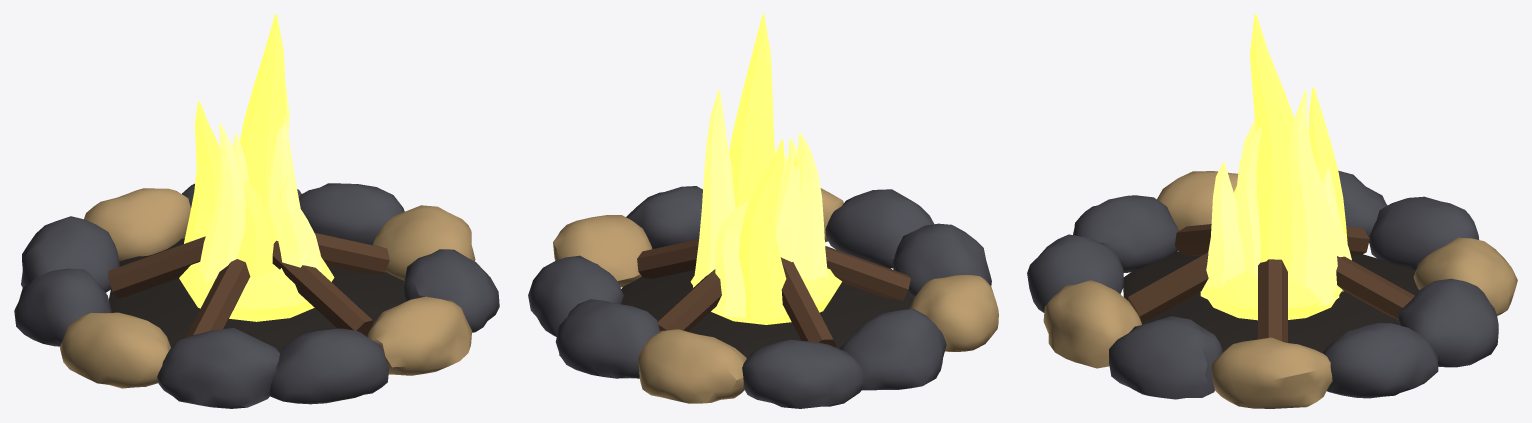
File: deco_fire_pit.fbx
3 views of the same model, side by side, from view 1: azimuth 30°, elevation 25°; view 2: azimuth 150°, elevation 25°; view 3: azimuth 270°, elevation 25° (orthographic). The views are drawn at different scales.
Parts seen in each view (by area): view 1: FirePit_Stones, FirePit_Flames, FirePit_Logs; view 2: FirePit_Stones, FirePit_Flames, FirePit_Logs; view 3: FirePit_Stones, FirePit_Flames, FirePit_Logs.
Part boxes in pixels (box(x1,y1,x2,y2)): FirePit_Stones: box(14, 183, 499, 408); FirePit_Flames: box(179, 14, 334, 321); FirePit_Logs: box(108, 232, 405, 352); FirePit_Stones: box(528, 186, 998, 408); FirePit_Flames: box(690, 14, 841, 324); FirePit_Logs: box(621, 239, 913, 358); FirePit_Stones: box(1027, 170, 1517, 408); FirePit_Flames: box(1200, 14, 1351, 320); FirePit_Logs: box(1123, 224, 1419, 353).
Size of the model in its own units: 186 by 127 by 187.
